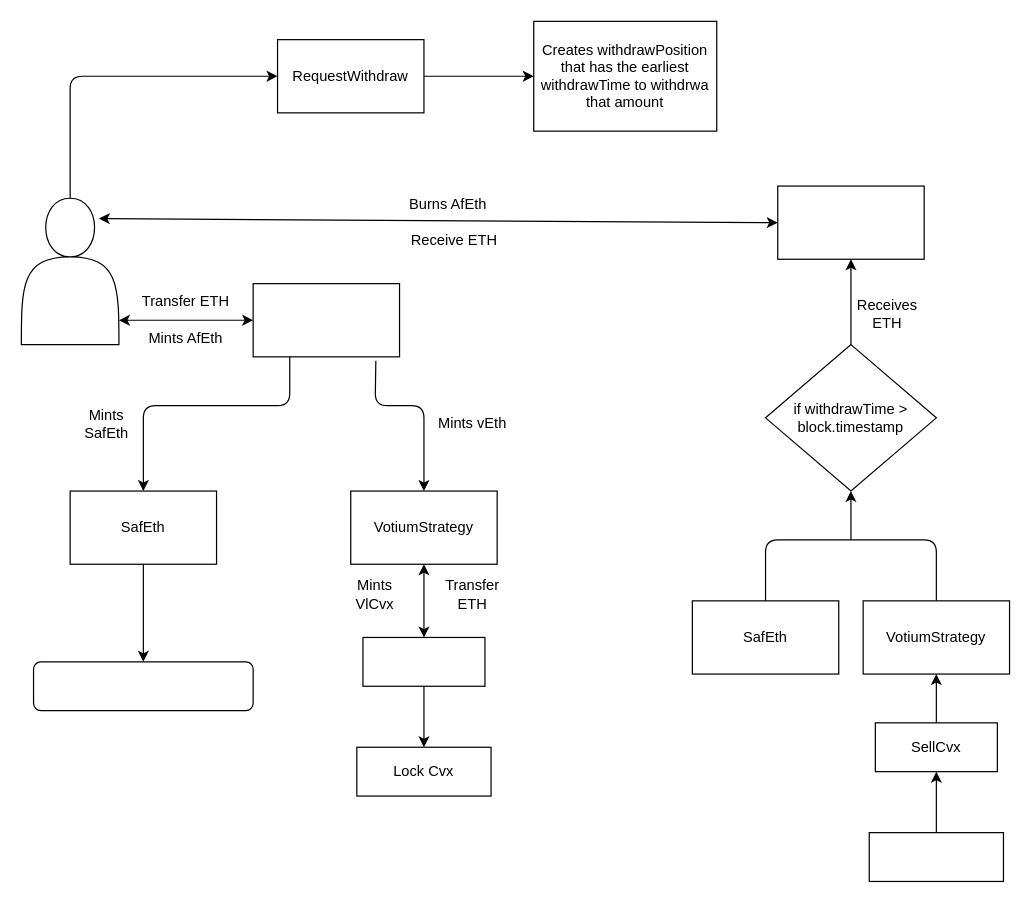
This 1031x903 diagram has some shape labels left out. The shapes that lost their labels are listed below. From the top down, each one's box as (x1, y1, x2, y2) in pixels, then its label:
(777, 185, 924, 259): Withdraw
(252, 282, 400, 357): Deposit (by ratio)
(362, 636, 485, 686): BuyCvx
(32, 661, 253, 711): Lido, Rocketpool, Frax, etc..
(868, 831, 1003, 881): Unlock Cvx
